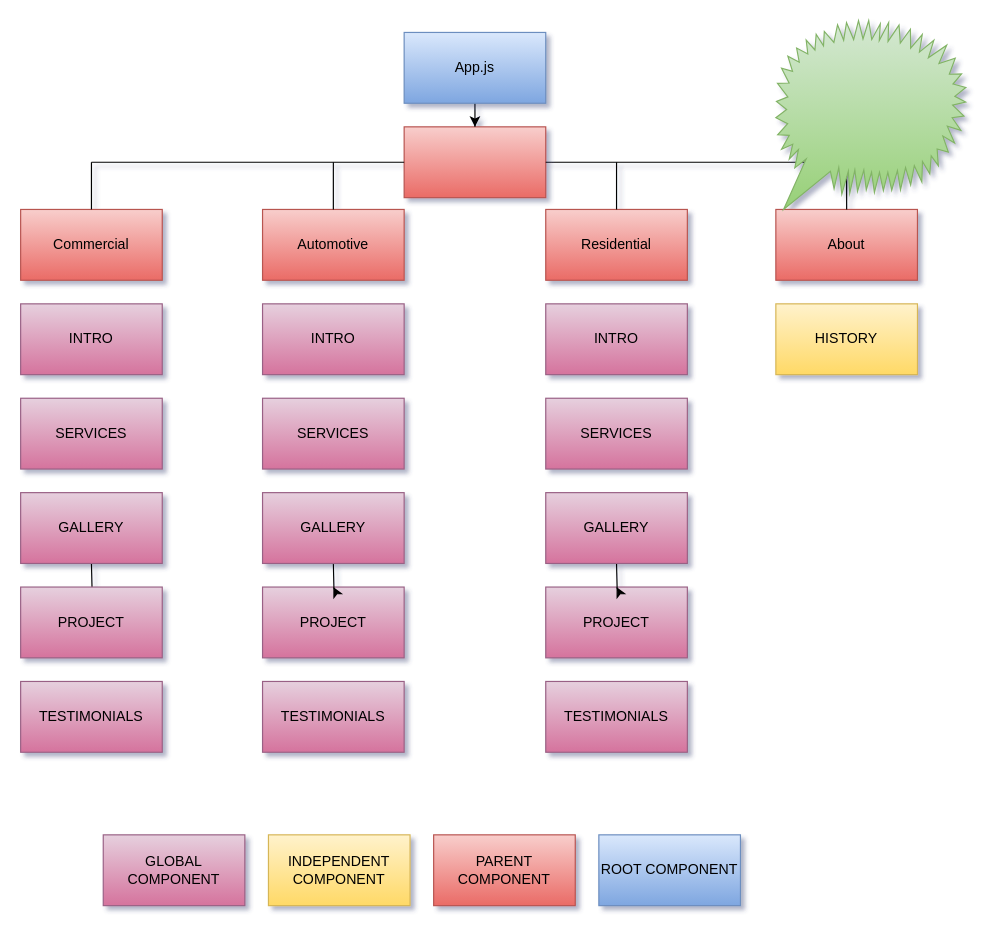
This 994x933 diagram has some shape labels left out. Each missing label, with the centre of its shape:
Home: the point at 474,162
What do we want to do here?: the point at 870,114
